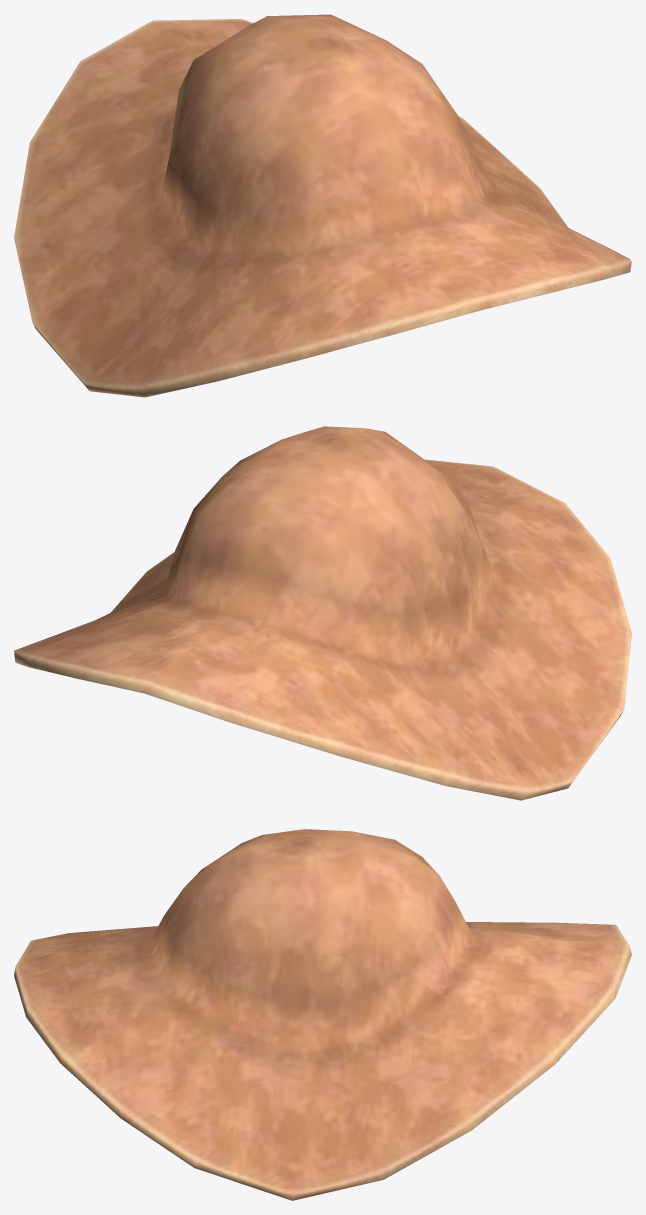
File: rider-helmet-slice-mediumcavalry.glb
The picture shows the model from 3 angles, top to bottom: view 1: azimuth 30°, elevation 25°; view 2: azimuth 150°, elevation 25°; view 3: azimuth 270°, elevation 25°; orthographic projection. The views are drawn at different scales.
Bounding box in the file's own units: 0.4577 × 0.2538 × 0.5375.
Materials: 1 (1 with a texture image).
